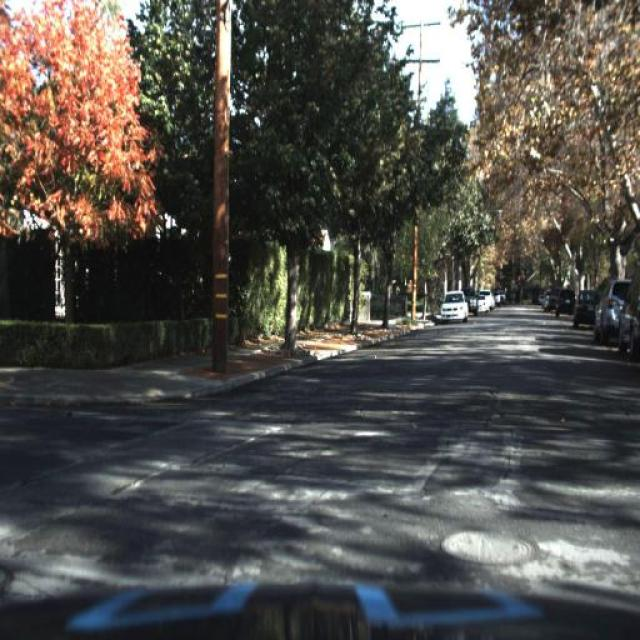car: (439, 287, 470, 328), (440, 291, 469, 321), (464, 285, 480, 321), (475, 291, 493, 318)
